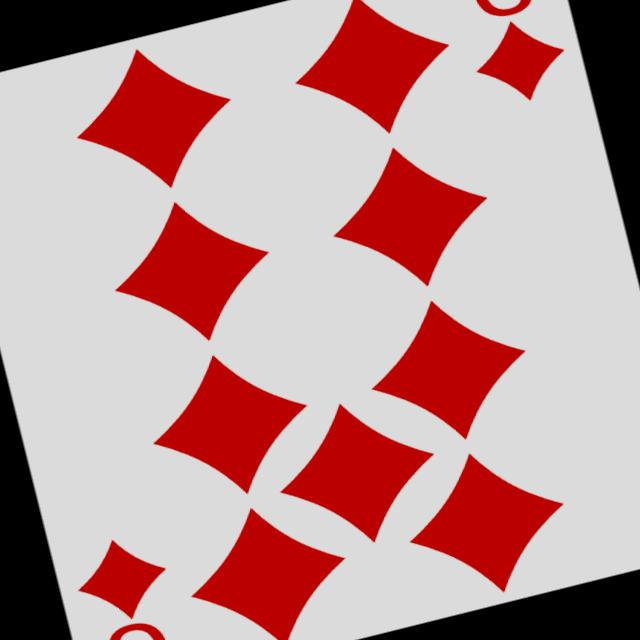Diamond: (314, 126, 506, 306), (354, 280, 544, 460), (58, 30, 250, 208), (135, 336, 325, 514), (96, 182, 286, 360), (263, 384, 452, 562), (393, 436, 581, 610), (276, 0, 469, 154), (174, 488, 361, 640), (67, 527, 178, 631), (465, 10, 574, 113)
